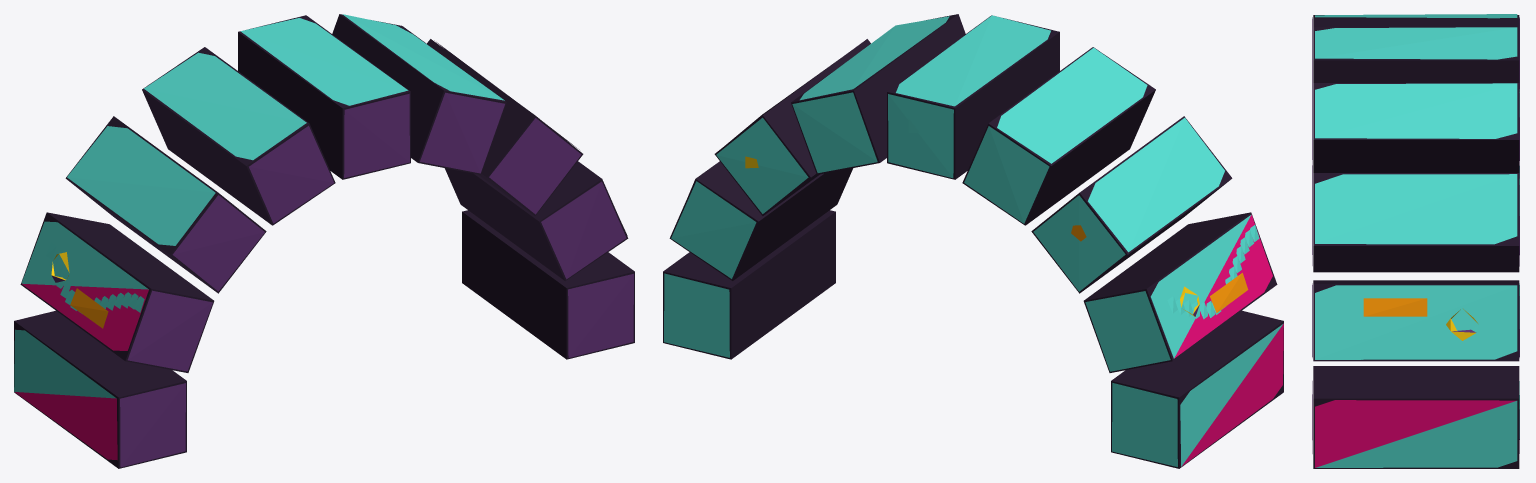
Rendered from ndsm-container-arch.lod2.glb.
3 views of the same model, side by side, from view 1: azimuth 30°, elevation 25°; view 2: azimuth 150°, elevation 25°; view 3: azimuth 270°, elevation 25° (orthographic).
Parts seen in each view (by area): view 1: lod2; view 2: lod2; view 3: lod2.
Part boxes in pixels (box(x1,y1,x2,y2)): lod2: box(14, 14, 634, 468); lod2: box(663, 14, 1283, 468); lod2: box(1312, 14, 1519, 468).
Size of the model in its own units: 18.52 by 10.48 by 6.58.
